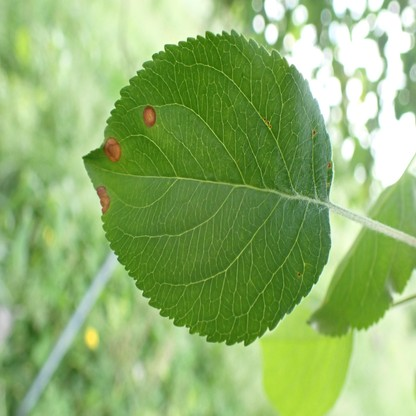frogeye_leaf_spot: (104, 137, 122, 162), (95, 186, 111, 213), (143, 107, 156, 126)
